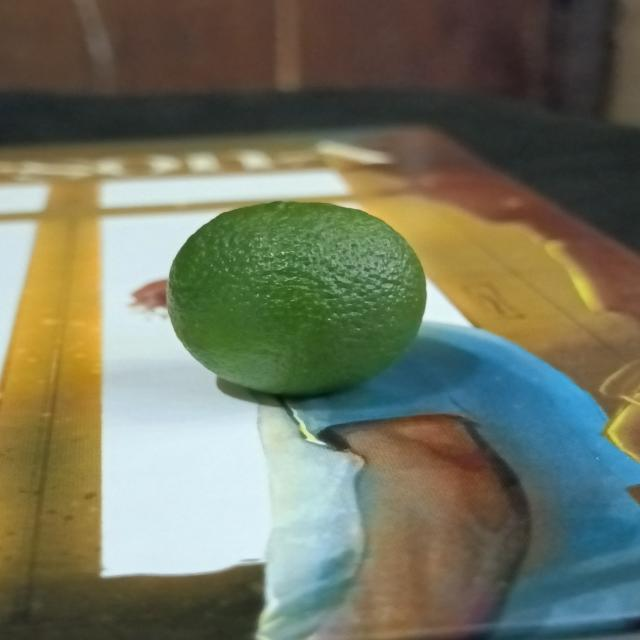heathy: (162, 198, 432, 401)
